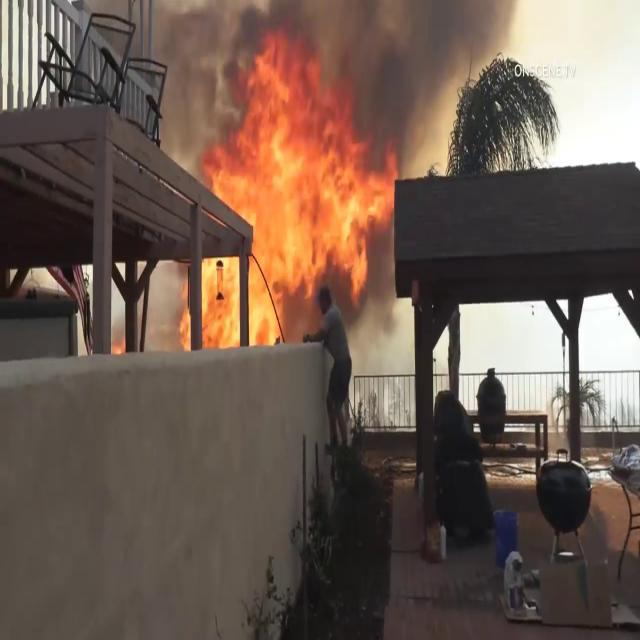Fire: (190, 29, 394, 340)
Smoke: (318, 0, 449, 156)
